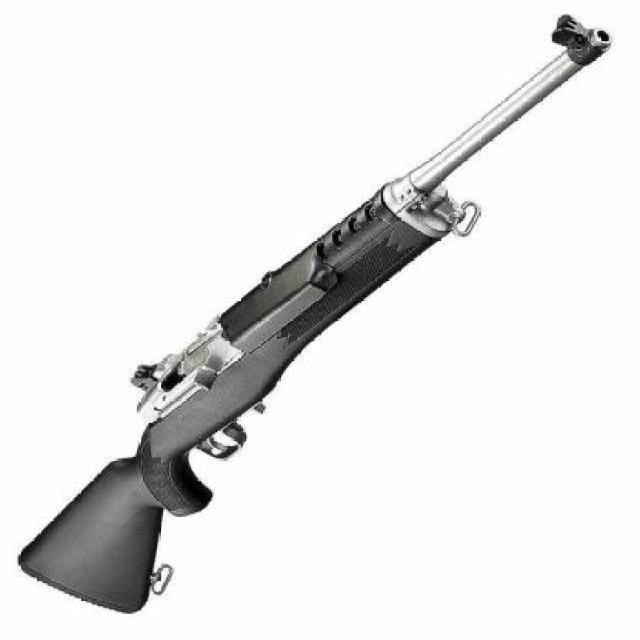weapon: (24, 12, 595, 592)
